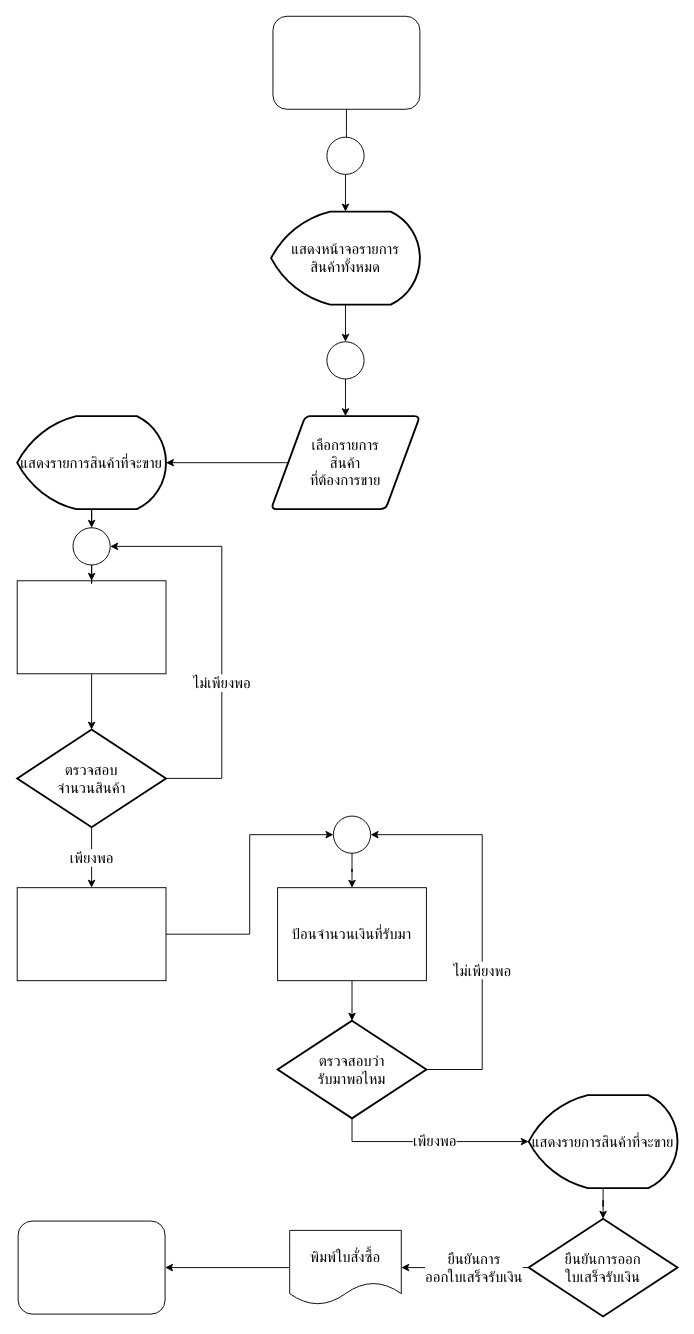
The diagram is 694 pixels wide and 1334 high, and some of its shapes have lost their labels. Each missing label, with the box of its shape:
คำนวณราคาสินค้า พร้อมกับภาษัี ( ราคาสินค้าทั้งหมด * ภาษี ) + ราคาสินค้าทั้งหมด: (16, 887, 166, 981)
จบการทำงาน: (17, 1220, 165, 1314)
ป้อนจำนวนสินค้า: (16, 580, 166, 674)
เริ่ม: (272, 15, 420, 109)
